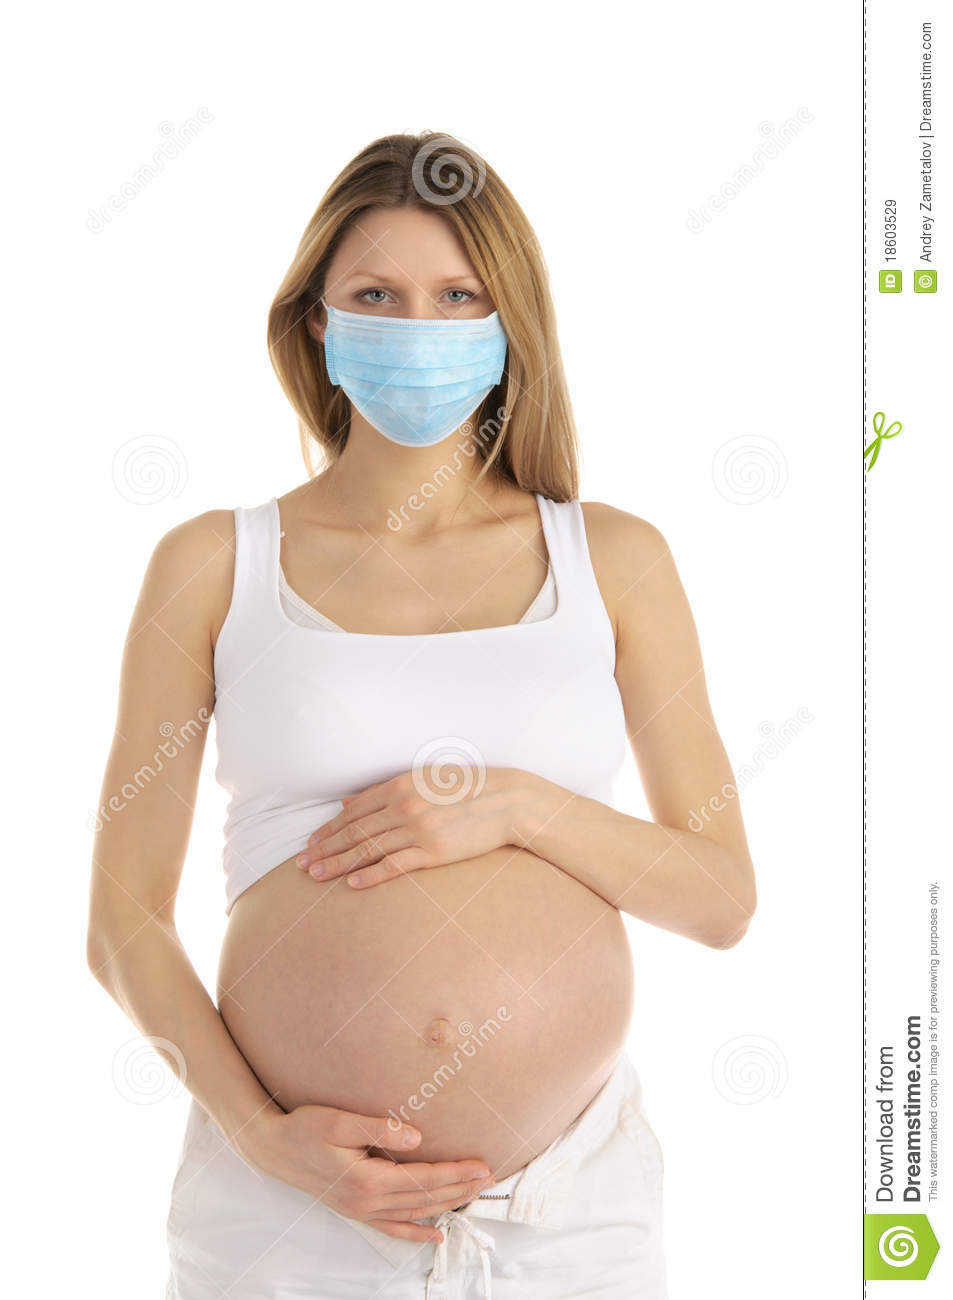mask: (328, 311, 510, 454)
